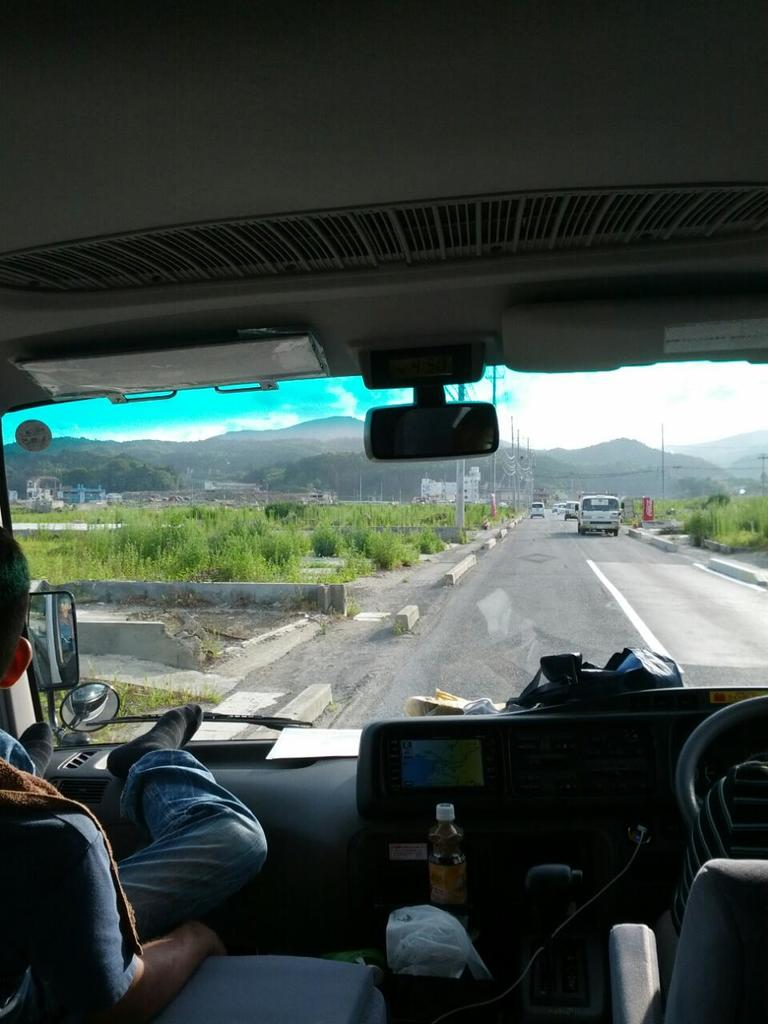Car: (0, 0, 767, 1023), (563, 499, 576, 518), (531, 502, 543, 518)
